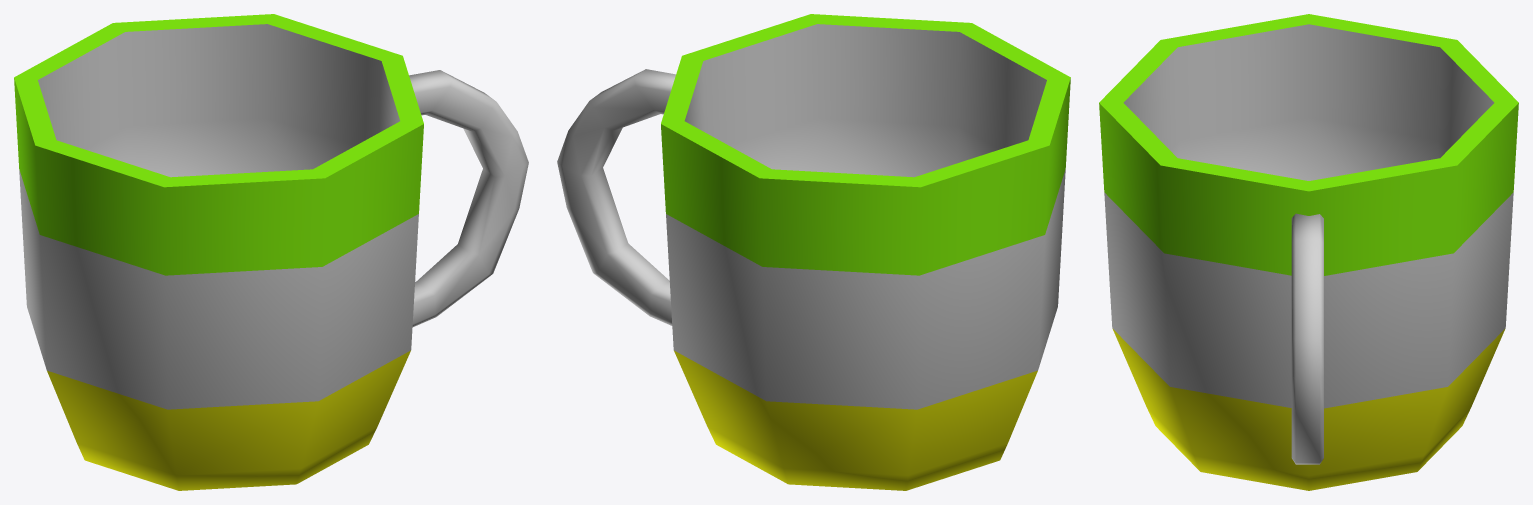
Rendered from Coffee_Cup_11.FBX.
3 renders of one model, left to right at view 1: azimuth 30°, elevation 25°; view 2: azimuth 150°, elevation 25°; view 3: azimuth 270°, elevation 25°, orthographic.
Parts seen in each view (by area): view 1: Coffee Cup; view 2: Coffee Cup; view 3: Coffee Cup.
Boxes of the visible parts, x1,y1,x2,y2 form: Coffee Cup: [14, 14, 528, 490]; Coffee Cup: [557, 14, 1070, 490]; Coffee Cup: [1099, 14, 1518, 490].
Size of the model in its own units: 44.01 by 28.24 by 33.22.
